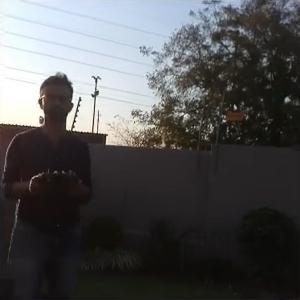follow: (0, 68, 93, 297)
